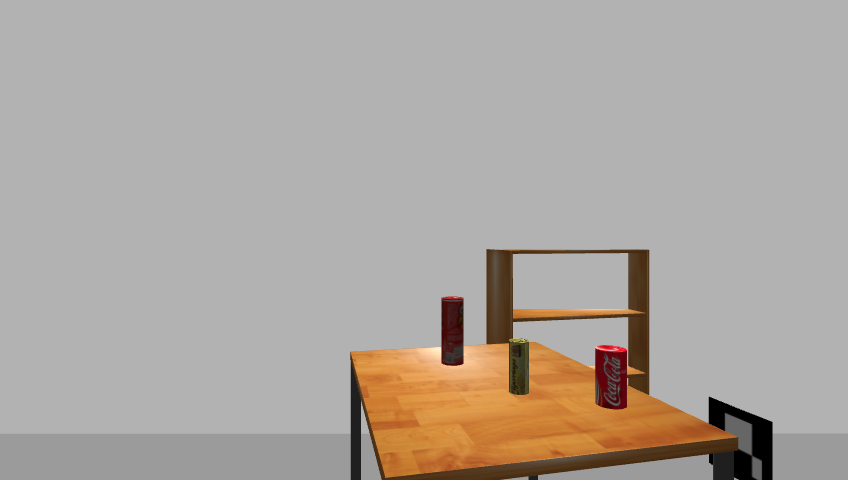aruco marker: (702, 396, 778, 480)
biscuits pack: (507, 338, 530, 396)
bookshelf: (481, 245, 656, 421)
coke can: (593, 346, 629, 410)
dinner table: (342, 342, 745, 480)
pringles can: (438, 295, 467, 368)
